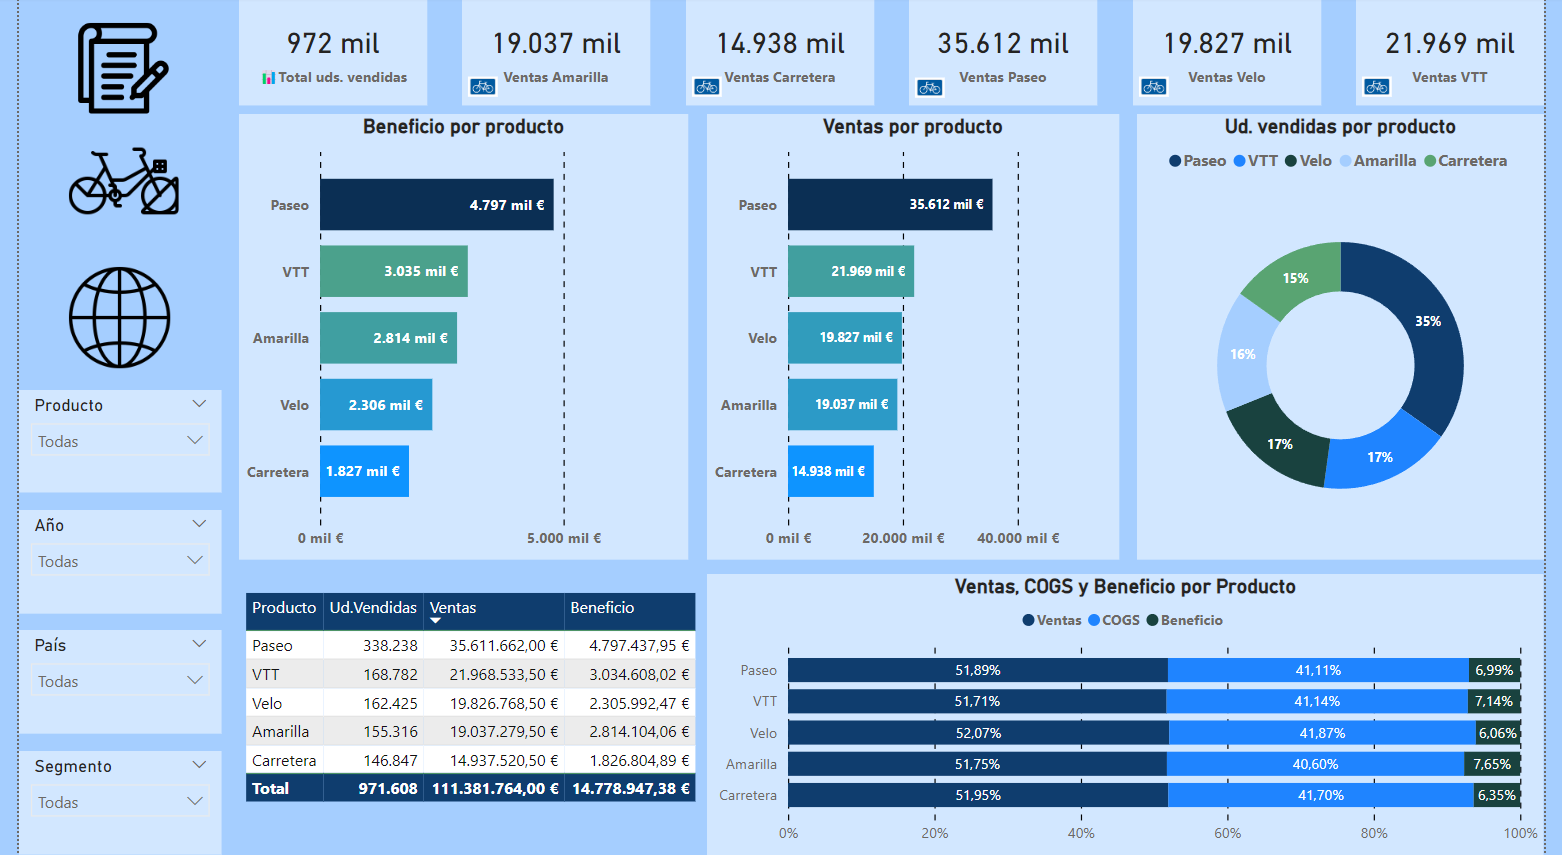

Layout of this report page (visuals, bound fields, positions):
{"tool":"powerbi","page":{"name":"Productos","canvas":[1280,720],"ordinal":1},"visuals":[{"type":"card","fields":{"Values":["Dax Medidas.Ventas Amarilla"]},"box":[372.1,0,157.8,91.5],"z":0},{"type":"card","fields":{"Values":["Dax Medidas.Ventas Carretera"]},"box":[559.6,0,157.8,91.5],"z":1000},{"type":"card","fields":{"Values":["Dax Medidas.Ventas Paseo"]},"box":[747,0,157.8,91.5],"z":2000},{"type":"card","fields":{"Values":["Dax Medidas.Ventas Velo"]},"box":[934.5,0,157.8,91.5],"z":3000},{"type":"card","fields":{"Values":["Dax Medidas.Ventas VTT"]},"box":[1122,0,157.8,91.5],"z":4000},{"type":"clusteredBarChart","title":"Ventas por producto","fields":{"Y":["Sum(financials.Ventas brutas)"],"Category":["financials.Producto"]},"box":[577.3,98.2,345.7,374.3],"z":5000},{"type":"donutChart","title":"Ud. vendidas por producto","fields":{"Y":["Sum(financials.Ud. Vendidas)"],"Category":["financials.Producto"]},"box":[938.2,98.2,341.5,374.3],"z":6000},{"type":"card","fields":{"Values":["financials.Total Units Sold"]},"box":[184.6,0,157.8,91.5],"z":7000},{"type":"clusteredBarChart","title":"Beneficio por producto","fields":{"Category":["financials.Producto"],"Y":["Sum(financials.Beneficio)"]},"box":[184.6,98.2,376.8,374.3],"z":8000},{"type":"tableEx","title":"asasasas","fields":{"Values":["financials.Producto","financials.Total Units Sold","Sum(financials.Ventas brutas)","Sum(financials.Beneficio)"]},"box":[184.6,495.1,392.7,214.8],"z":9000},{"type":"hundredPercentStackedBarChart","fields":{"Y":["Sum(financials.Ventas brutas)","Sum(financials.COGS)","Sum(financials.Beneficio)"],"Category":["financials.Producto"]},"box":[577.3,484.2,702.4,235.8],"z":10000},{"type":"slicer","fields":{"Values":["Calendar.Date.Variación.Jerarquía de fechas.Año"]},"box":[0,430.3,170.3,87.3],"z":11000},{"type":"slicer","fields":{"Values":["financials.País"]},"box":[0,531.5,170.3,87.3],"z":12000},{"type":"slicer","fields":{"Values":["financials.Segmento"]},"box":[0,632.7,170.3,87.3],"z":13000},{"type":"slicer","fields":{"Values":["financials.Producto"]},"box":[0,330,170.3,86.4],"z":14000},{"type":"image","box":[36.9,102.4,101.5,104.9],"z":15000},{"type":"image","box":[36.9,221.2,94.8,94.8],"z":16000},{"type":"image","box":[43.6,16.8,88.1,85.6],"z":17000},{"type":"image","box":[371.7,58.7,35.2,32.7],"z":18000},{"type":"image","box":[559.7,58.7,35.2,32.7],"z":19000},{"type":"image","box":[746.9,59.6,35.2,32.7],"z":20000},{"type":"image","box":[934.8,58.7,35.2,32.7],"z":21000},{"type":"image","box":[1122,58.7,35.2,32.7],"z":22000}]}

Visuals, with their boxes in screenshot pixels (x1, y1, x2, y2), scaled from the page's 1280x720 canvas onto the 1562x855 screenshot:
card - Dax Medidas.Ventas Amarilla: <bbox>454, 0, 647, 109</bbox>
card - Dax Medidas.Ventas Carretera: <bbox>683, 0, 875, 109</bbox>
card - Dax Medidas.Ventas Paseo: <bbox>912, 0, 1104, 109</bbox>
card - Dax Medidas.Ventas Velo: <bbox>1140, 0, 1333, 109</bbox>
card - Dax Medidas.Ventas VTT: <bbox>1369, 0, 1561, 109</bbox>
"Ventas por producto" clusteredBarChart: <bbox>704, 117, 1126, 561</bbox>
"Ud. vendidas por producto" donutChart: <bbox>1145, 117, 1561, 561</bbox>
card - financials.Total Units Sold: <bbox>225, 0, 418, 109</bbox>
"Beneficio por producto" clusteredBarChart: <bbox>225, 117, 685, 561</bbox>
"asasasas" tableEx: <bbox>225, 588, 704, 843</bbox>
hundredPercentStackedBarChart - Sum(financials.Ventas brutas) x Sum(financials.COGS): <bbox>704, 575, 1561, 854</bbox>
slicer - Calendar.Date.Variación.Jerarquía de fechas.Año: <bbox>0, 511, 208, 615</bbox>
slicer - financials.País: <bbox>0, 631, 208, 735</bbox>
slicer - financials.Segmento: <bbox>0, 751, 208, 854</bbox>
slicer - financials.Producto: <bbox>0, 392, 208, 494</bbox>
image: <bbox>45, 122, 169, 246</bbox>
image: <bbox>45, 263, 161, 375</bbox>
image: <bbox>53, 20, 161, 122</bbox>
image: <bbox>454, 70, 497, 109</bbox>
image: <bbox>683, 70, 726, 109</bbox>
image: <bbox>911, 71, 954, 110</bbox>
image: <bbox>1141, 70, 1184, 109</bbox>
image: <bbox>1369, 70, 1412, 109</bbox>
